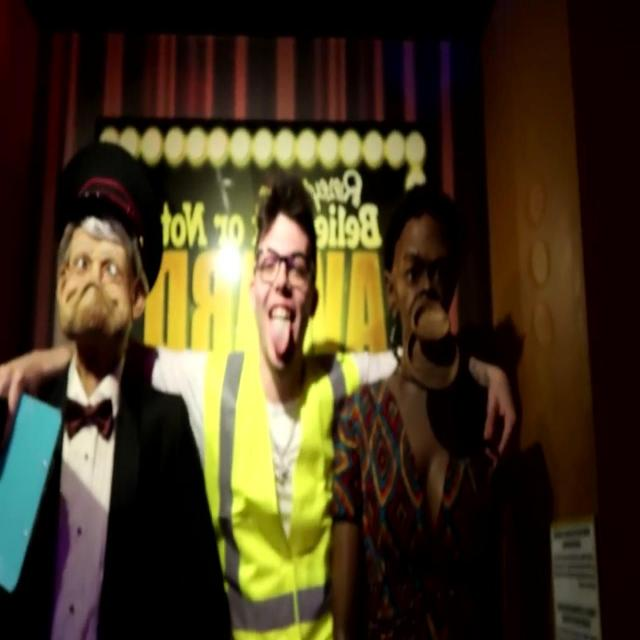Reflective-Jacket: (193, 340, 355, 639)
